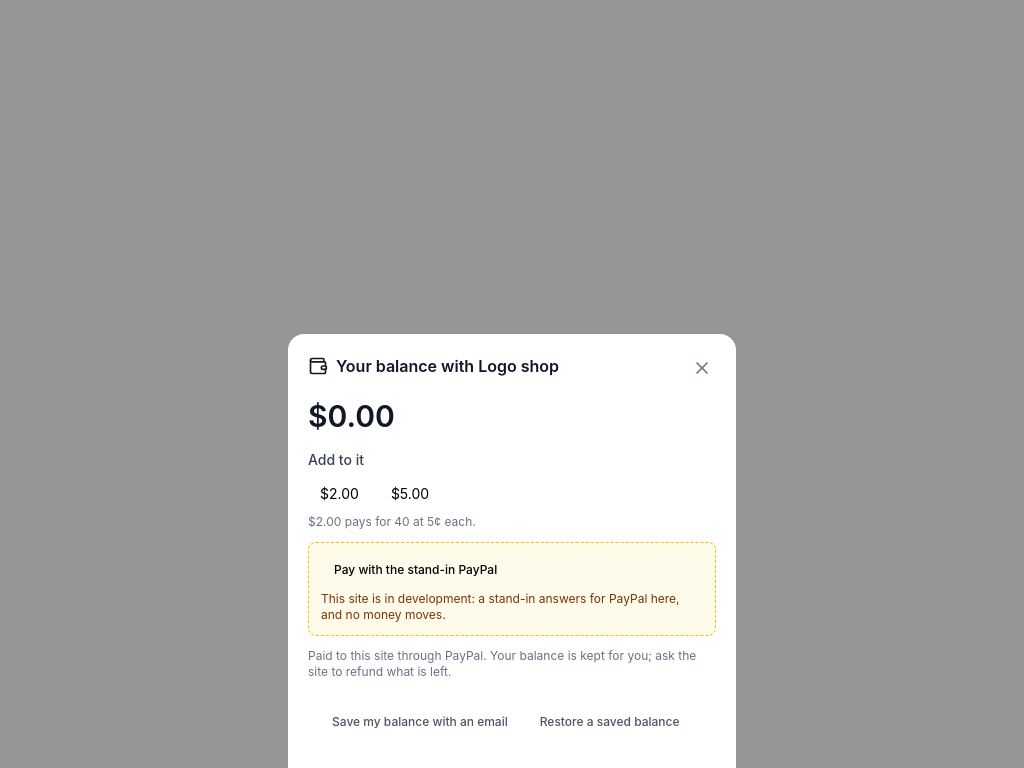
on a development site, pays through the stand-in for PayPal with its own button and never loads PayPal
Expected: the element with test id "wallet-stand-in" shows "a stand-in answers for PayPal here, and no money moves", 321,591 -> 680,622
Click the radio button named "fl-wallet-package" at (410,494), box 391,485 -> 429,502
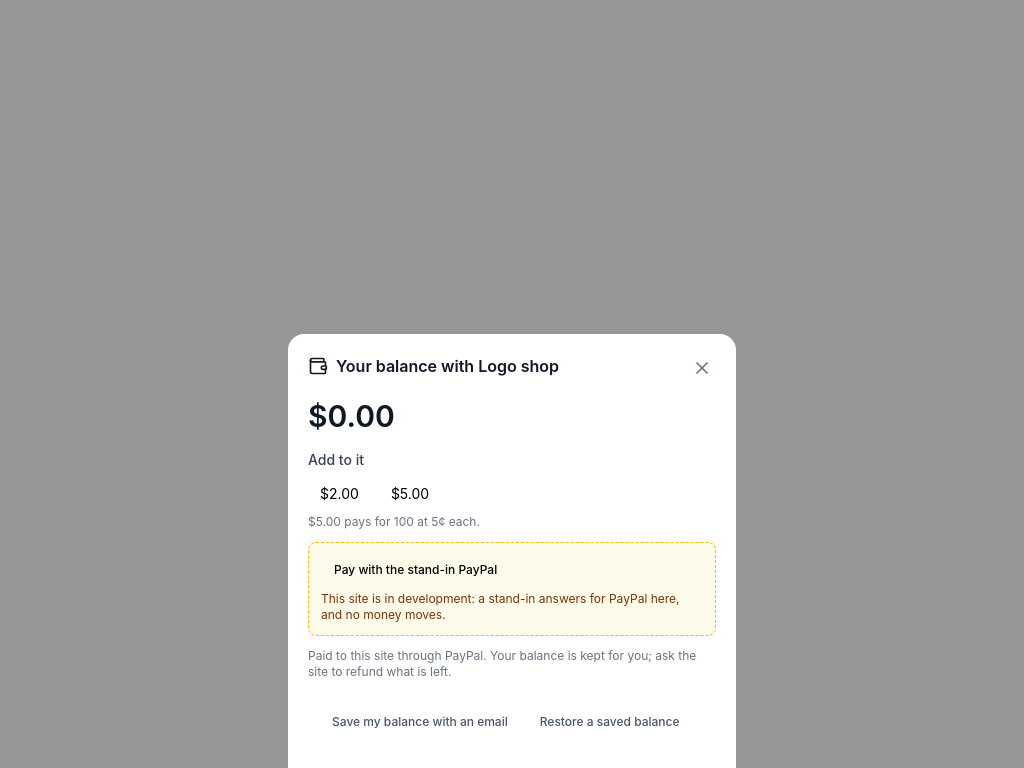
Click the button "Pay with the stand-in PayPal" at (416,570), box 321,555 -> 510,585
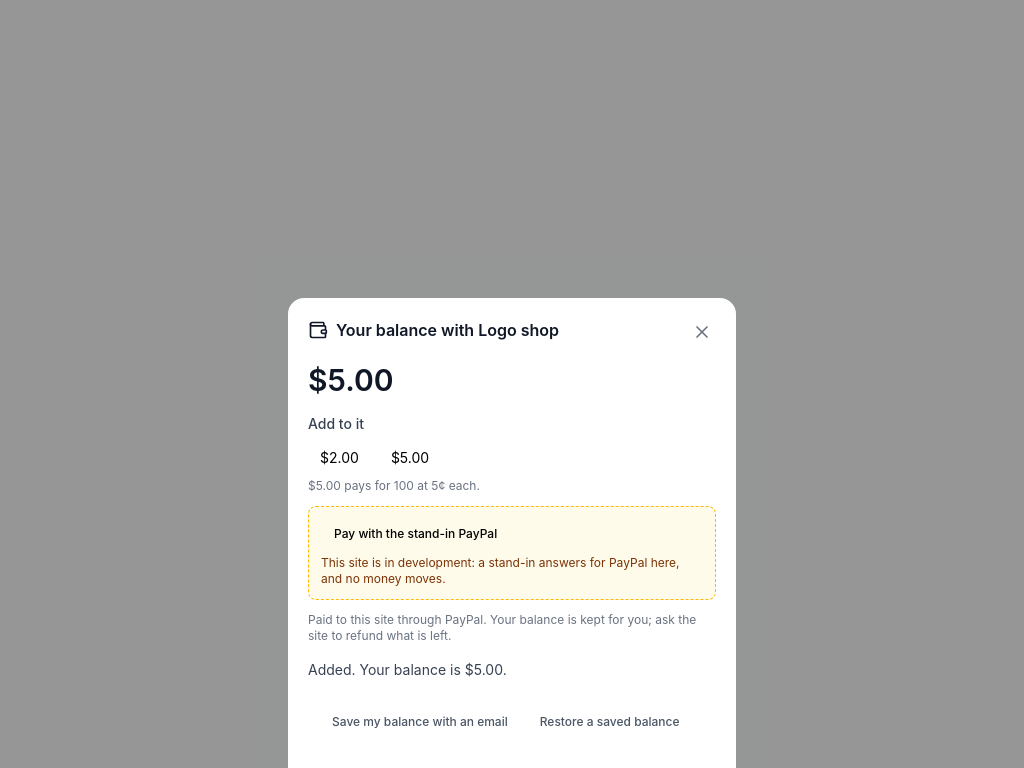
Expected: the text with test id "wallet-balance" reads "$5.00", 308,362 -> 394,398
Expected: the text "Added. Your balance is $5.00." is shown, 308,661 -> 507,678
